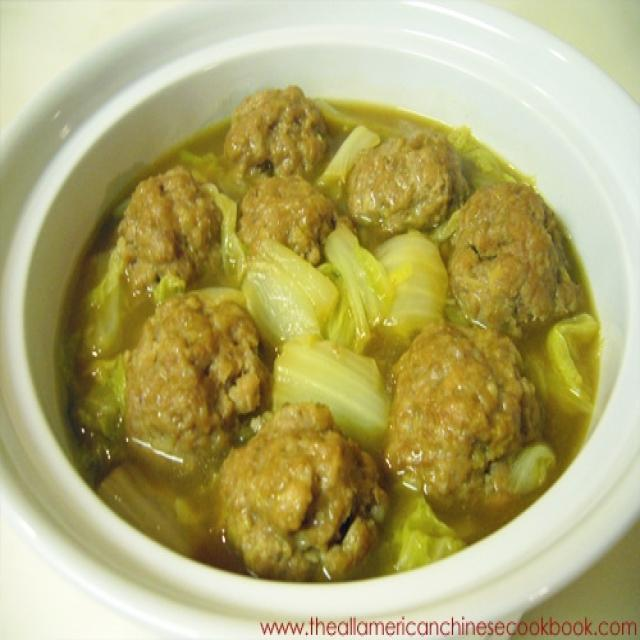猪肉菜式: (44, 72, 616, 590)
